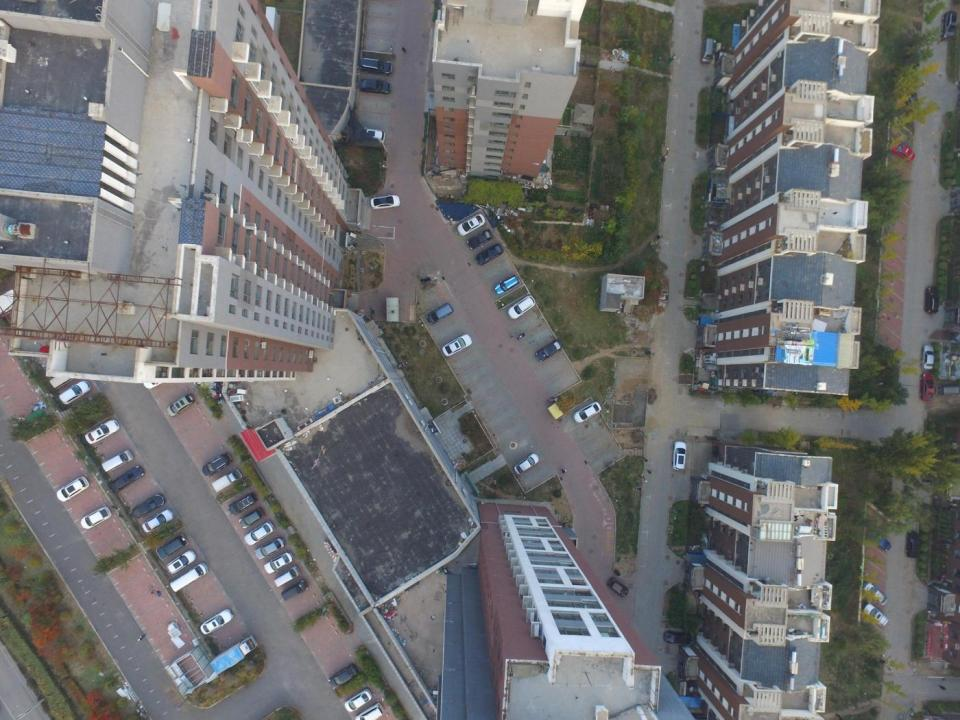car: (84, 419, 120, 444), (111, 466, 144, 491), (200, 609, 233, 634), (132, 494, 164, 518), (142, 509, 174, 533), (328, 664, 358, 688), (244, 521, 274, 545), (344, 688, 372, 712), (456, 214, 486, 236), (254, 538, 284, 560), (573, 400, 600, 424), (144, 368, 176, 388), (442, 334, 471, 356), (81, 507, 111, 528), (536, 339, 563, 362), (264, 552, 293, 573), (476, 244, 503, 265), (863, 582, 887, 605), (358, 78, 390, 95), (514, 452, 538, 474), (467, 229, 492, 250), (355, 702, 384, 720), (890, 141, 916, 161), (370, 193, 400, 210), (867, 531, 890, 551), (900, 88, 919, 112), (607, 578, 628, 598), (919, 372, 933, 401), (905, 530, 919, 558), (663, 631, 691, 644), (920, 345, 934, 370)
truck: (210, 636, 257, 674), (211, 469, 242, 492)
van: (169, 562, 208, 592), (156, 534, 188, 560), (56, 477, 90, 501), (59, 380, 90, 404), (202, 453, 232, 477), (102, 450, 134, 472), (167, 550, 196, 574), (508, 296, 535, 320), (228, 493, 256, 516), (360, 58, 392, 76), (863, 603, 888, 626), (167, 395, 194, 416), (282, 579, 308, 600), (352, 127, 385, 143), (239, 507, 264, 528), (426, 304, 452, 324), (274, 566, 300, 586), (50, 371, 78, 389), (941, 11, 957, 39), (495, 276, 518, 294), (672, 441, 686, 470), (924, 287, 938, 314), (936, 384, 960, 394)
